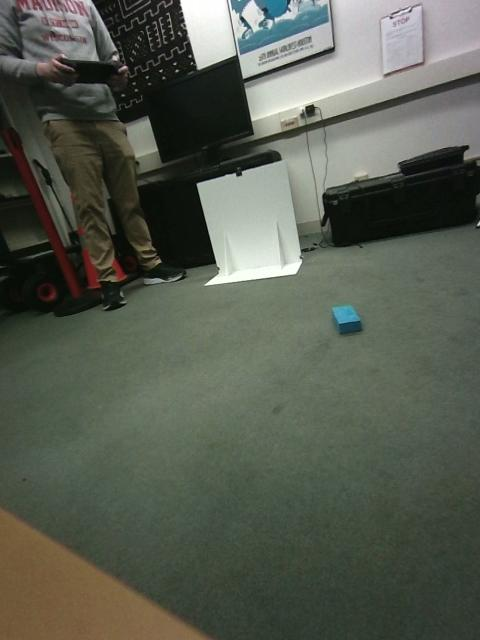block: (366, 411, 480, 492)
